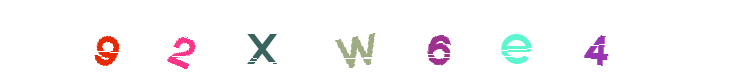2: (136, 0, 216, 80)
4: (476, 0, 556, 80)
6: (333, 0, 413, 80)
9: (67, 0, 147, 80)
E: (472, 0, 552, 80)
W: (310, 0, 390, 80)
X: (222, 0, 302, 80)
